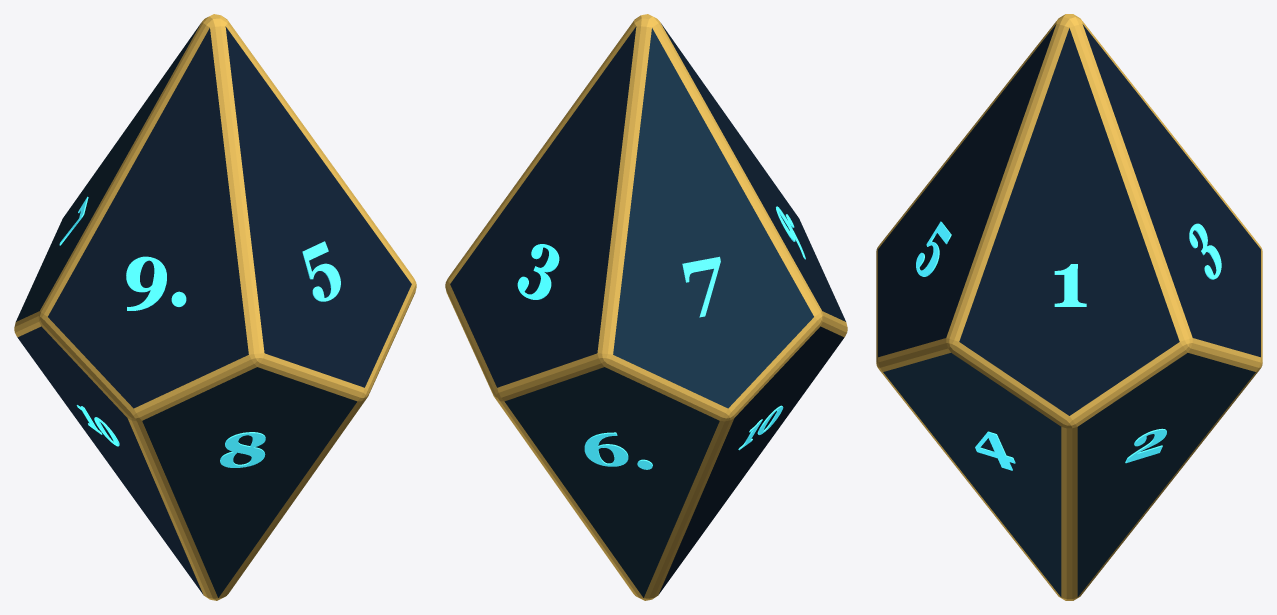
Rendered from d10_leo.glb.
The picture shows the model from 3 angles, left to right: view 1: azimuth 30°, elevation 25°; view 2: azimuth 150°, elevation 25°; view 3: azimuth 270°, elevation 25°; orthographic projection.
Visible parts, largest first — view 1: DiceBody, Number_09, Number_08, Number_05; view 2: DiceBody, Number_03, Number_06, Number_07; view 3: DiceBody, Number_03, Number_01, Number_05, Number_04, Number_02.
Boxes of the visible parts, box(x1,y1,x2,y2) form: DiceBody: box(14, 14, 416, 600); Number_09: box(126, 256, 186, 310); Number_08: box(220, 432, 265, 467); Number_05: box(302, 241, 340, 301); DiceBody: box(445, 14, 847, 600); Number_03: box(517, 244, 559, 299); Number_06: box(584, 432, 652, 469); Number_07: box(682, 256, 720, 317); DiceBody: box(876, 14, 1262, 600); Number_03: box(1189, 223, 1221, 279); Number_01: box(1054, 264, 1086, 306); Number_05: box(916, 221, 951, 276); Number_04: box(975, 431, 1015, 470); Number_02: box(1125, 428, 1166, 463).
Bounding box in the file's own units: 2.39 × 3.78 × 2.27.
